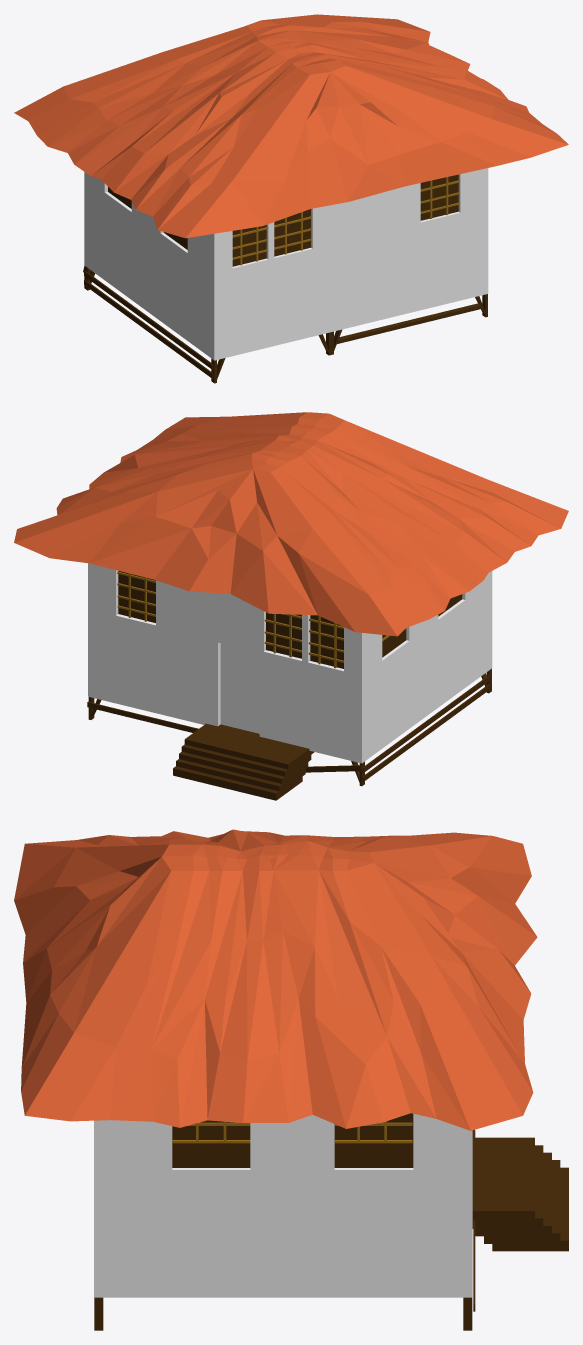
File: House 1 Version 1.1.fbx
3 views of the same model, one above another, from view 1: azimuth 30°, elevation 25°; view 2: azimuth 150°, elevation 25°; view 3: azimuth 270°, elevation 25° (orthographic). The views are drawn at different scales.
Visible parts, largest first — view 1: Haus 1; view 2: Haus 1; view 3: Haus 1.
Boxes of the visible parts, x1,y1,x2,y2 form: Haus 1: (14, 14, 568, 383); Haus 1: (14, 412, 568, 800); Haus 1: (14, 829, 568, 1330).
Bounding box in the file's own units: 1107 × 685 × 895.
